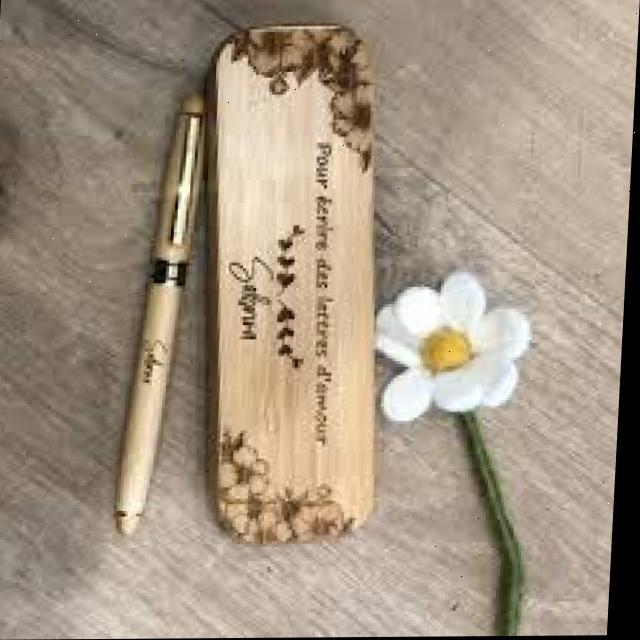pen: (118, 97, 208, 537)
